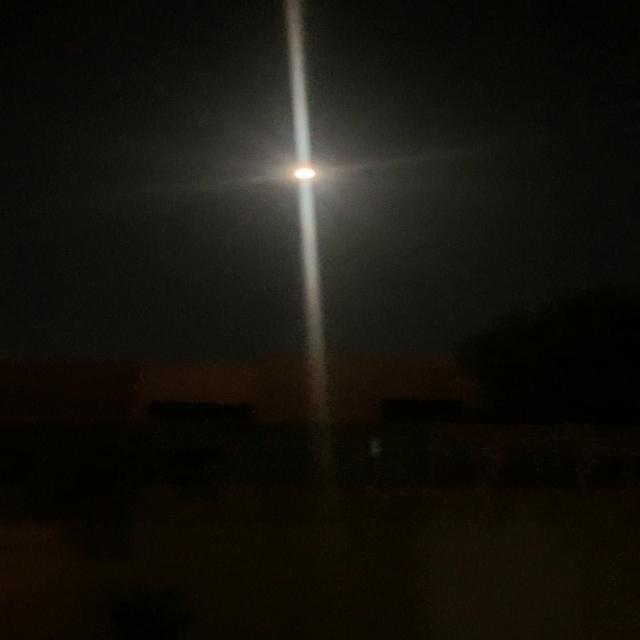moon: (270, 162, 334, 194)
